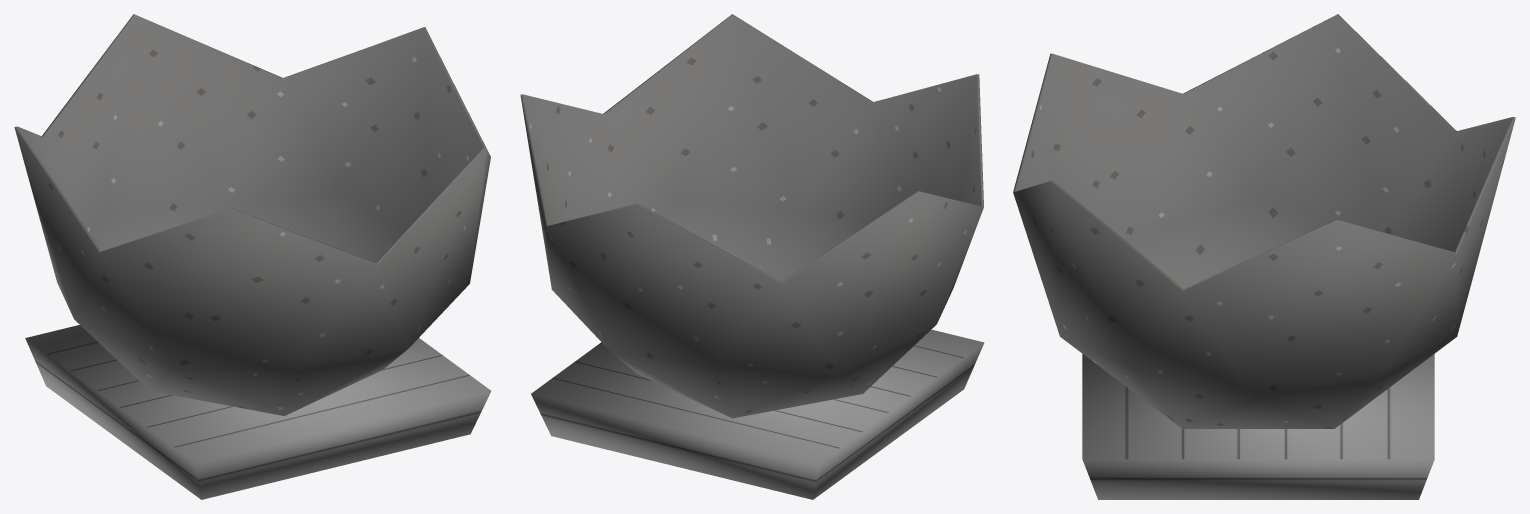
Rendered from Hoguera_rev03.fbx.
3 renders of one model, left to right at view 1: azimuth 30°, elevation 25°; view 2: azimuth 150°, elevation 25°; view 3: azimuth 270°, elevation 25°, orthographic. The views are drawn at different scales.
Parts seen in each view (by area): view 1: Gargola.003, Gargola.001; view 2: Gargola.003, Gargola.001; view 3: Gargola.003, Gargola.001.
Part boxes in pixels (bbox=[...]): Gargola.003: bbox=[14, 14, 490, 415]; Gargola.001: bbox=[25, 325, 491, 499]; Gargola.003: bbox=[520, 14, 983, 418]; Gargola.001: bbox=[531, 329, 984, 499]; Gargola.003: bbox=[1013, 14, 1515, 428]; Gargola.001: bbox=[1082, 354, 1434, 499].
Size of the model in its own units: 1.58 by 1.12 by 1.62.
